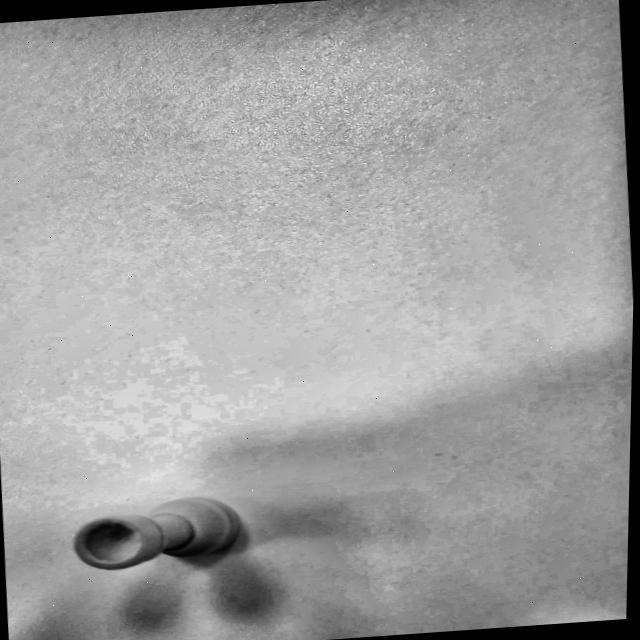white-rook: (72, 496, 263, 609)
